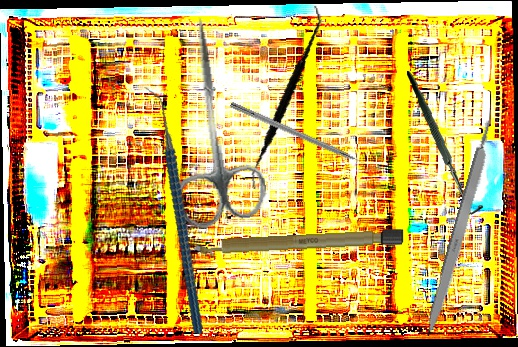Chopper: (103, 86, 243, 335)
Hook Surgical: (397, 70, 493, 217), (229, 100, 379, 174)
Iris Scissors: (151, 10, 271, 232)
Scalpel Handle: (422, 117, 500, 340), (188, 227, 406, 256)
Spatula Surgical: (221, 5, 349, 190)
